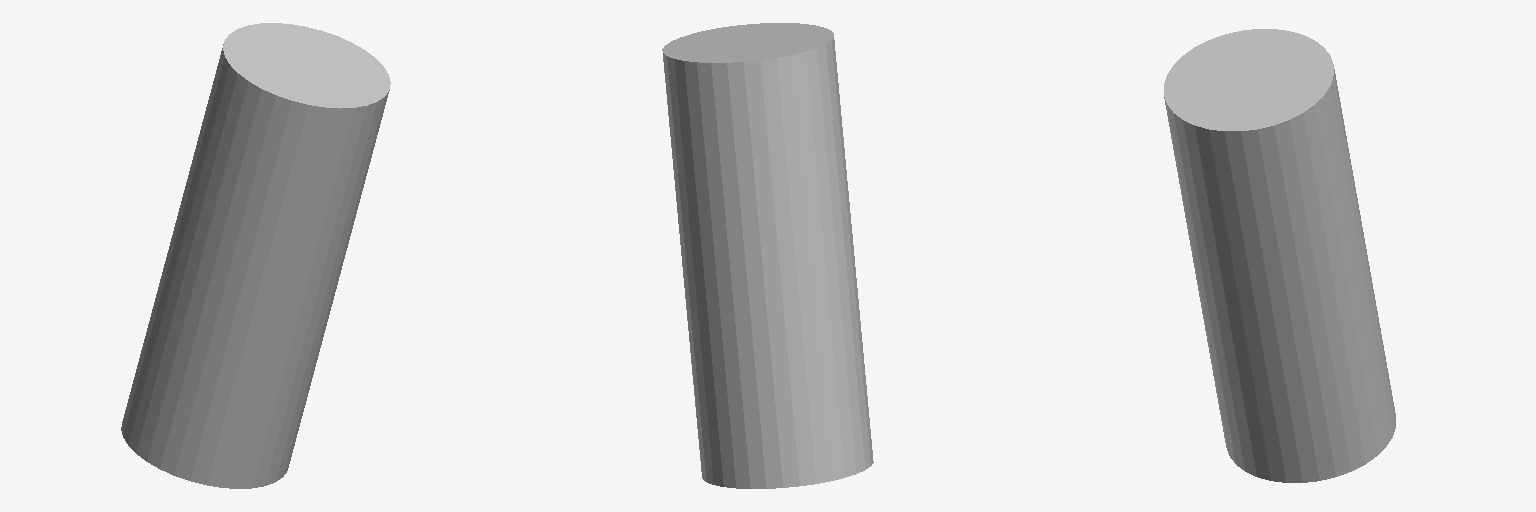
File: asdasd.obj
3 renders of one model, left to right at view 1: azimuth 30°, elevation 25°; view 2: azimuth 150°, elevation 25°; view 3: azimuth 270°, elevation 25°, orthographic.
Bounding box in the file's own units: 0.806 × 1.5 × 0.7472.